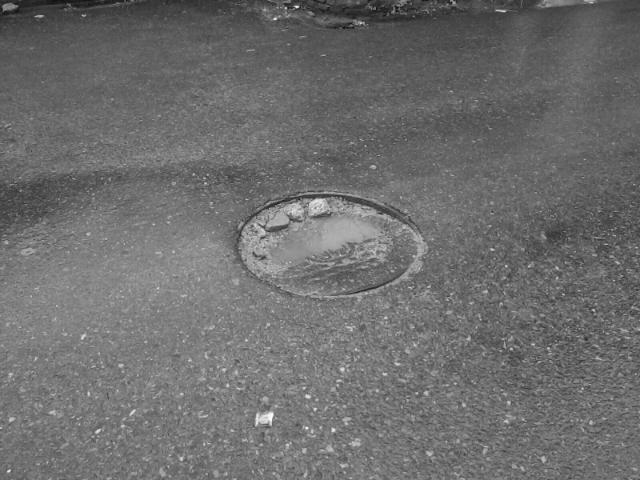Pothole: (224, 193, 452, 348)
